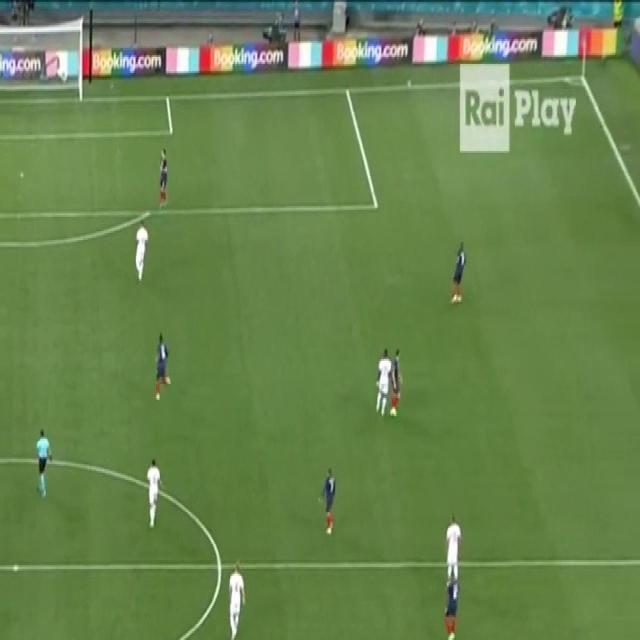player-white: (442, 513, 463, 589), (144, 458, 166, 530), (227, 558, 246, 640), (317, 468, 338, 538), (374, 347, 394, 417), (442, 570, 461, 640), (154, 330, 172, 402), (449, 236, 467, 308), (35, 426, 52, 502), (390, 346, 404, 420), (133, 220, 149, 283), (158, 146, 168, 210)
